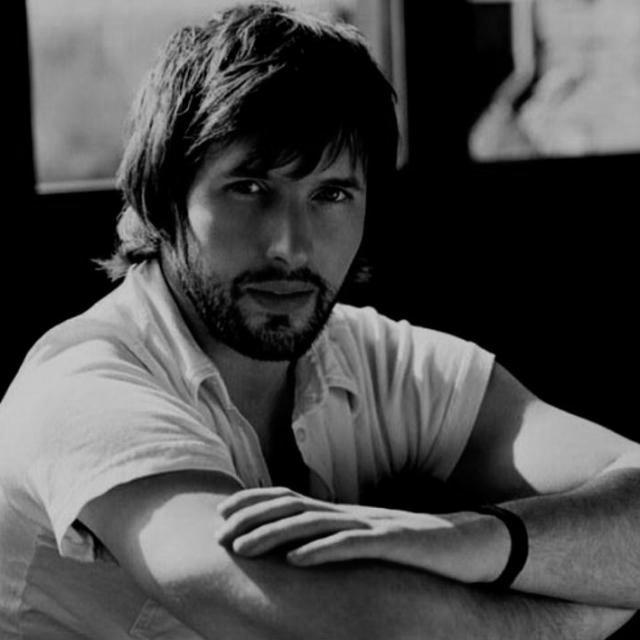real: (138, 108, 382, 360)
